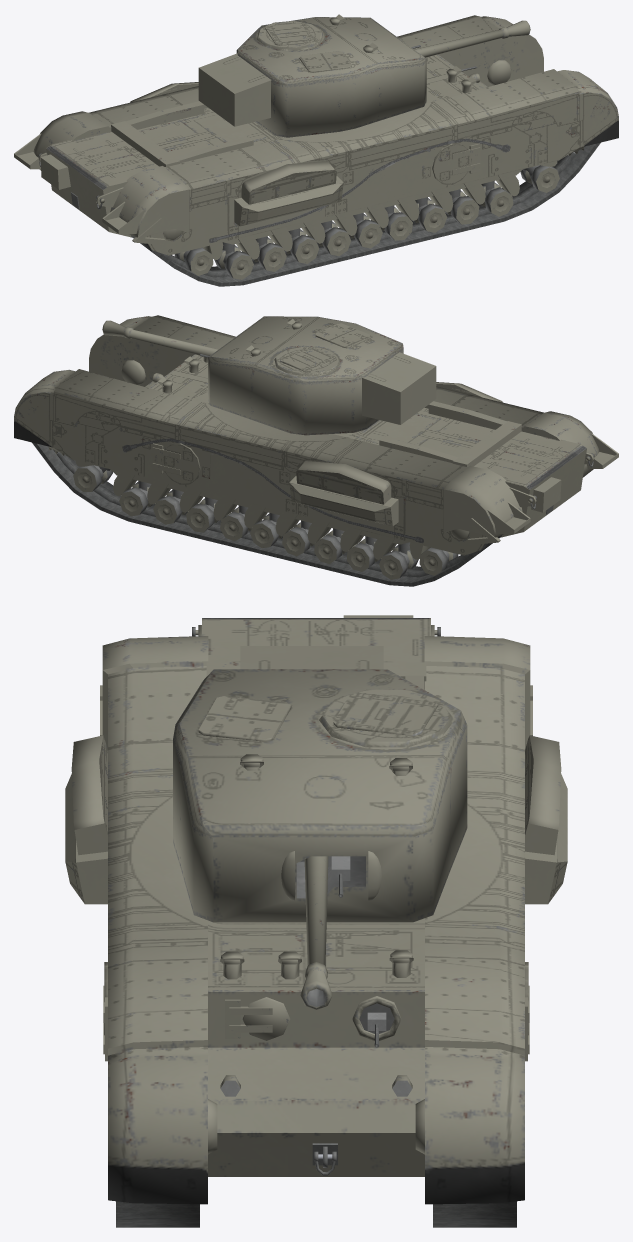
Rendered from churchill_vii.glb.
3 views of the same model, one above another, from view 1: azimuth 30°, elevation 25°; view 2: azimuth 150°, elevation 25°; view 3: azimuth 270°, elevation 25° (orthographic). The views are drawn at different scales.
Visible parts, largest first — view 1: Churchill_VII_Hull, Churchill_VII_Turret, Churchill_Track_R, Churchill_VII_Barrel, Churchill_VII_Wheel_R.011, Churchill_VII_Wheel_R.002, Churchill_VII_Wheel_R.005, Churchill_VII_Wheel_R.003, Churchill_VII_Wheel_R.012, Churchill_VII_Wheel_R.010, Churchill_VII_Wheel_R.009, Churchill_VII_Wheel_R.007 (+3 smaller); view 2: Churchill_VII_Hull, Churchill_VII_Turret, Churchill_Track_L, Churchill_VII_Barrel, Churchill_VII_Wheel_L.011, Churchill_VII_Wheel_L.002, Churchill_VII_Wheel_L.003, Churchill_VII_Wheel_L.012, Churchill_VII_Wheel_L.005, Churchill_VII_Wheel_L.004, Churchill_VII_Wheel_L.007, Churchill_VII_Wheel_L.010 (+3 smaller); view 3: Churchill_VII_Hull, Churchill_VII_Turret, Churchill_VII_Barrel, Churchill_Track_L, Churchill_Track_R.
Part boxes in pixels (<box>): Churchill_VII_Hull: <box>14,15,618,259</box>; Churchill_VII_Turret: <box>198,14,426,137</box>; Churchill_Track_R: <box>131,142,600,286</box>; Churchill_VII_Barrel: <box>411,20,530,57</box>; Churchill_VII_Wheel_R.011: <box>214,245,253,279</box>; Churchill_VII_Wheel_R.002: <box>520,165,559,192</box>; Churchill_VII_Wheel_R.005: <box>412,198,447,232</box>; Churchill_VII_Wheel_R.003: <box>480,183,513,216</box>; Churchill_VII_Wheel_R.012: <box>174,247,213,275</box>; Churchill_VII_Wheel_R.010: <box>251,237,286,271</box>; Churchill_VII_Wheel_R.009: <box>284,229,319,263</box>; Churchill_VII_Wheel_R.007: <box>349,214,382,248</box>; Churchill_VII_Hull: <box>14,315,618,559</box>; Churchill_VII_Turret: <box>208,316,436,435</box>; Churchill_Track_L: <box>32,442,501,586</box>; Churchill_VII_Barrel: <box>102,320,218,357</box>; Churchill_VII_Wheel_L.011: <box>379,545,418,579</box>; Churchill_VII_Wheel_L.002: <box>73,465,112,491</box>; Churchill_VII_Wheel_L.003: <box>119,482,153,516</box>; Churchill_VII_Wheel_L.012: <box>419,547,458,575</box>; Churchill_VII_Wheel_L.005: <box>186,498,218,532</box>; Churchill_VII_Wheel_L.004: <box>153,490,187,524</box>; Churchill_VII_Wheel_L.007: <box>250,514,283,548</box>; Churchill_VII_Wheel_L.010: <box>347,538,379,571</box>; Churchill_VII_Hull: <box>65,615,567,1204</box>; Churchill_VII_Turret: <box>173,646,467,922</box>; Churchill_VII_Barrel: <box>300,856,350,1009</box>; Churchill_Track_L: <box>433,1201,516,1227</box>; Churchill_Track_R: <box>116,1201,199,1227</box>.
Bounding box in the file's own units: 7.68 × 2.54 × 3.3.
2 materials, 2 textured.
